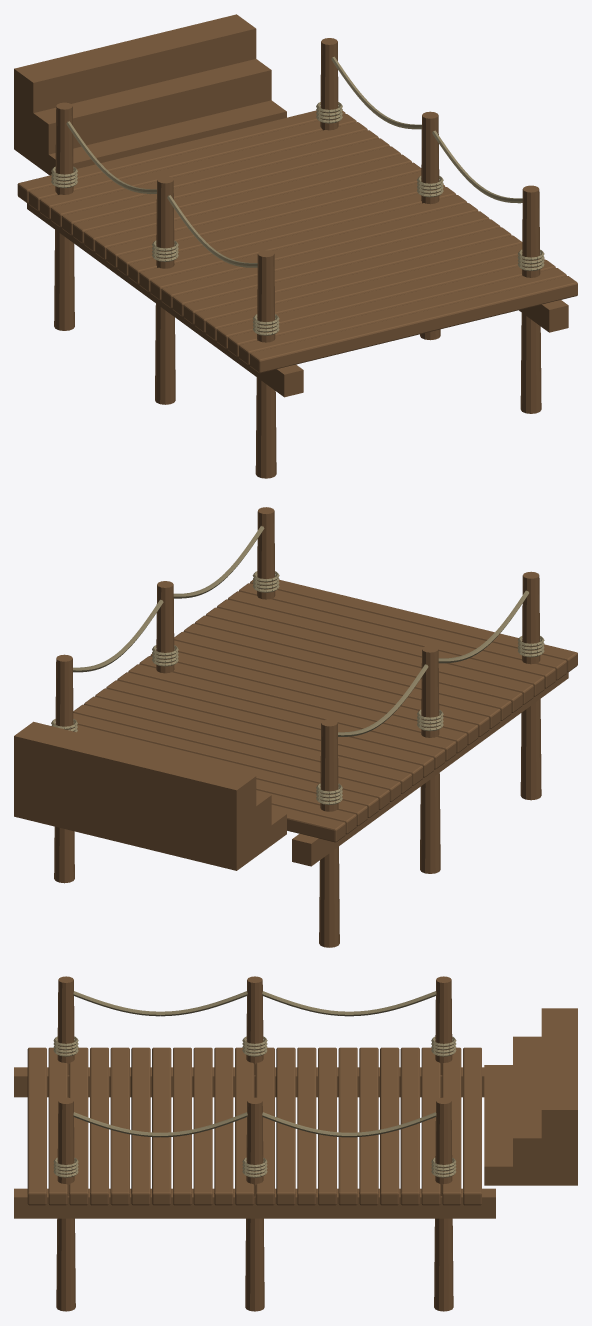
File: authored_dock_craft.glb
3 views of the same model, one above another, from view 1: azimuth 30°, elevation 25°; view 2: azimuth 150°, elevation 25°; view 3: azimuth 270°, elevation 25° (orthographic). The views are drawn at different scales.
Visible parts, largest first — view 1: bevelled_dock_plank, dock_rope; view 2: bevelled_dock_plank, dock_rope; view 3: bevelled_dock_plank, dock_rope.
Part boxes in pixels (x1,y1,x2,y2): bevelled_dock_plank: (14,14,577,478); dock_rope: (51,56,544,335); bevelled_dock_plank: (14,507,577,947); dock_rope: (51,526,544,804); bevelled_dock_plank: (14,976,577,1311); dock_rope: (53,991,456,1177).
Size of the model in its own units: 2.65 by 1.75 by 4.33.
